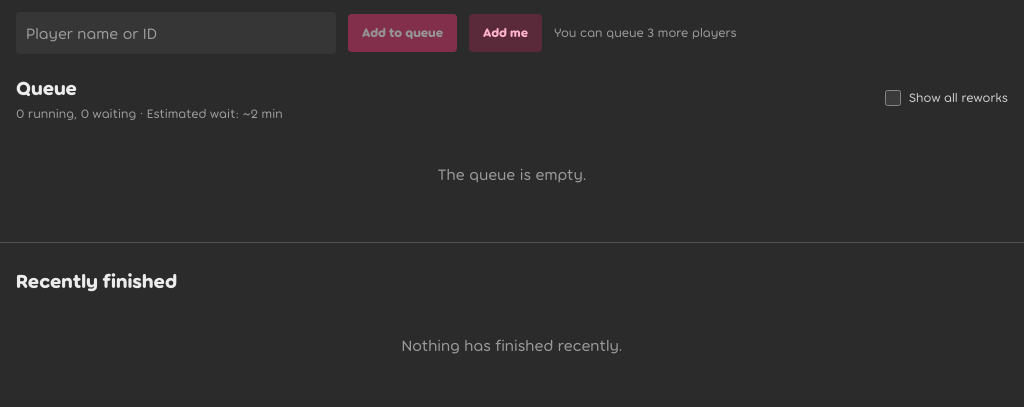
Test case: QueueTab › the add bar › queues a player by name, reloads and counts one slot fewer
Expected: the text "You can queue 3 more players" is shown, [554,23,737,43]
In the field labelled "Player name or ID": (176, 33) [26,12,326,54], type " Beta "
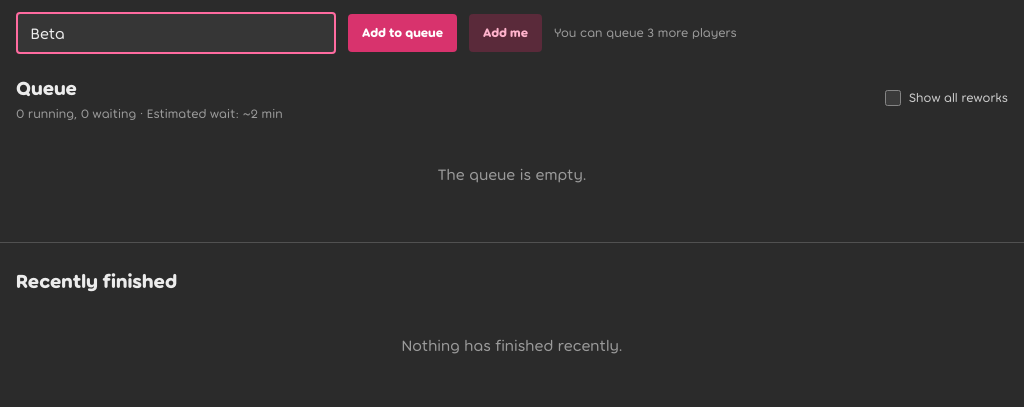
Click the button "Add to queue": (402, 33) [348,14,457,52]
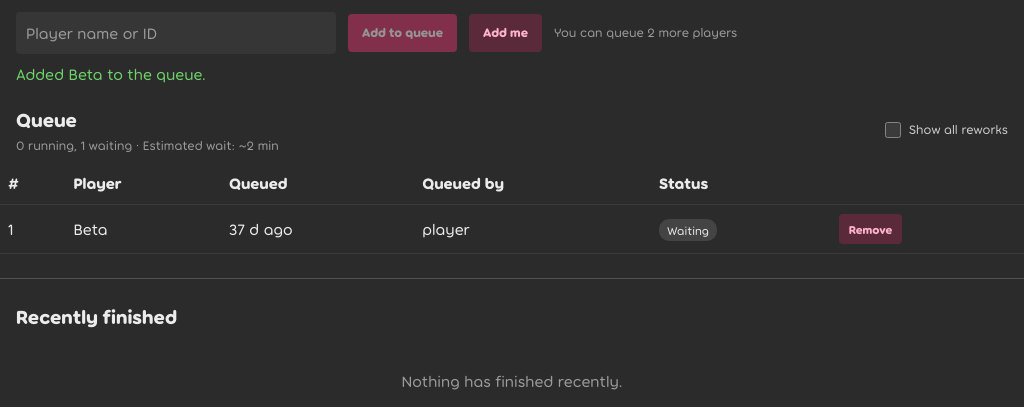
Expected: the text "You can queue 2 more players" is shown, [554,23,737,43]
Expected: the text "Beta" is shown, [65,204,221,253]
Expected: the text "Added Beta to the queue." is shown, [16,64,206,83]
